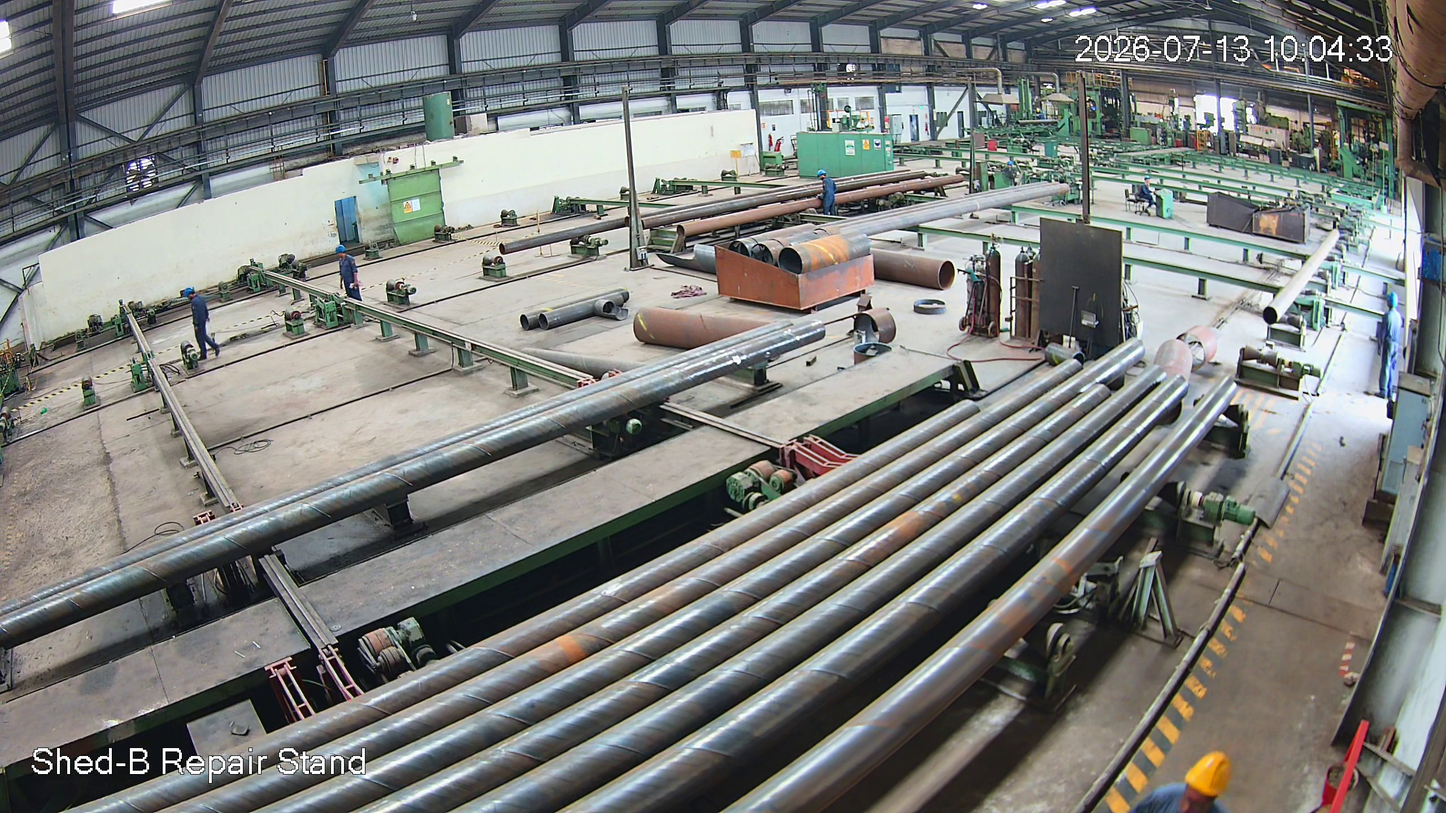Helmet: (334, 244, 349, 261), (184, 286, 198, 302)
Person: (183, 288, 222, 361), (334, 246, 365, 304)
